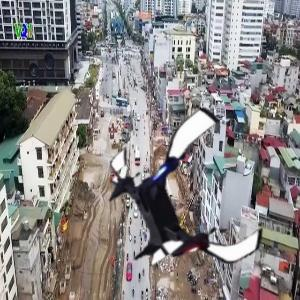drone: (102, 118, 274, 290)
